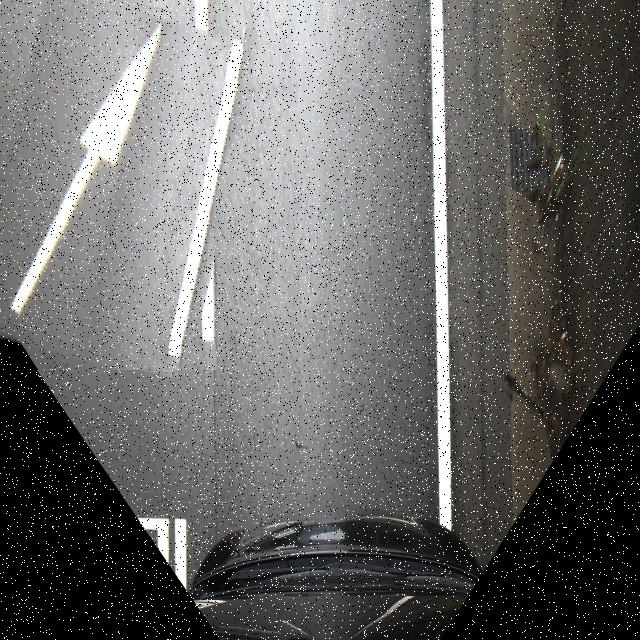chang_lane_right: (0, 0, 243, 370)
